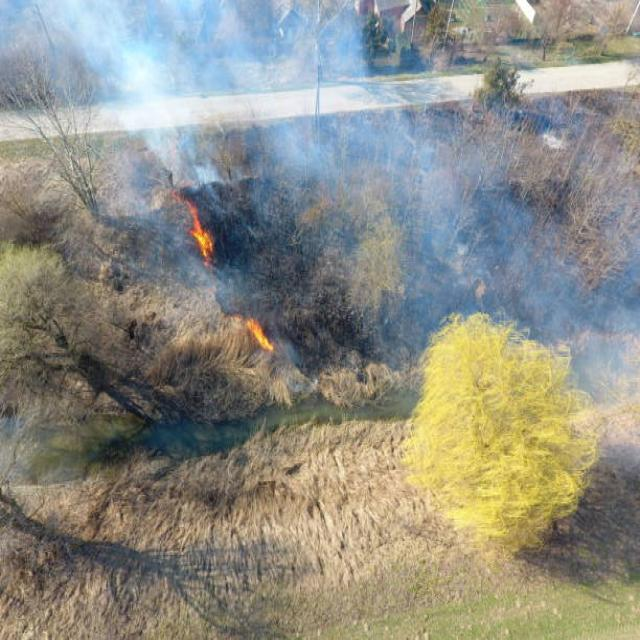Fire: (175, 190, 213, 256), (228, 308, 272, 348)
Smoke: (0, 0, 481, 264), (483, 108, 640, 452)
